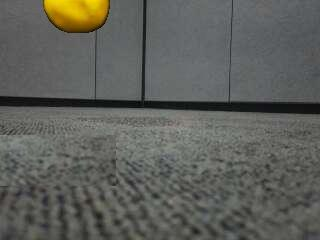Lemon: (42, 0, 111, 35)
